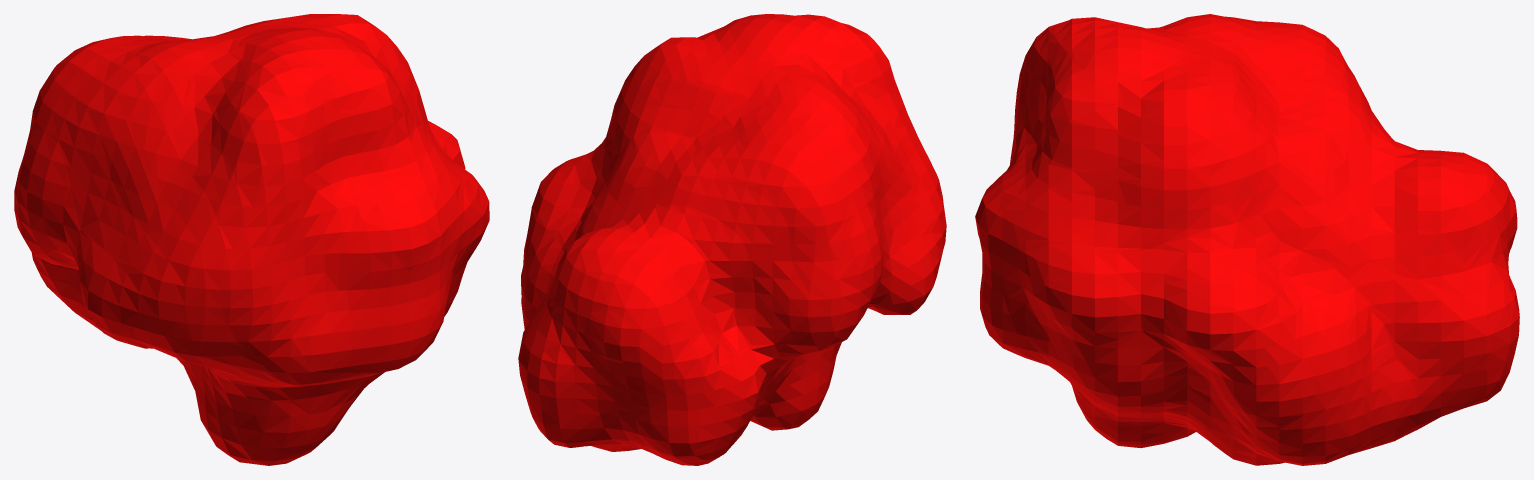
Rendered from pepE_coarse.dae.
The picture shows the model from 3 angles, left to right: view 1: azimuth 30°, elevation 25°; view 2: azimuth 150°, elevation 25°; view 3: azimuth 270°, elevation 25°; orthographic projection. The views are drawn at different scales.
Visible parts, largest first — view 1: pepE; view 2: pepE; view 3: pepE.
Boxes of the visible parts, left/top/right/bottom form: pepE: left=14, top=14, right=489, bottom=465; pepE: left=518, top=14, right=946, bottom=465; pepE: left=975, top=14, right=1519, bottom=465.
Bounding box in the file's own units: 43.69 × 44.58 × 52.57.
